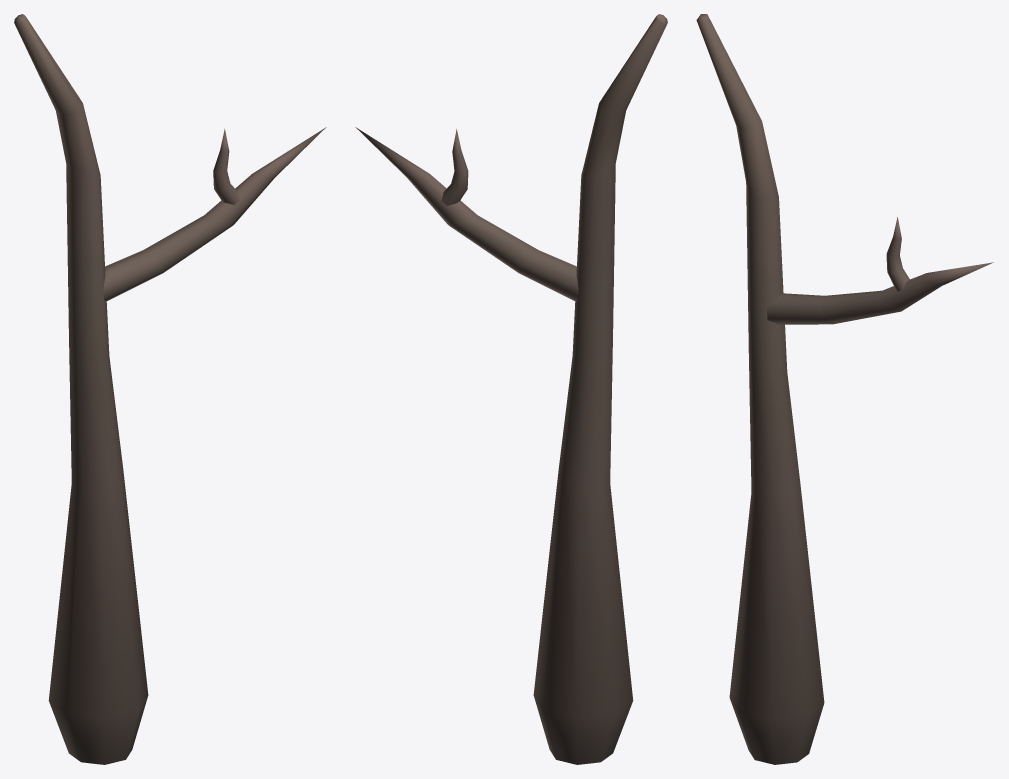
File: d_kaykit_arbre_mort.glb
3 renders of one model, left to right at view 1: azimuth 30°, elevation 25°; view 2: azimuth 150°, elevation 25°; view 3: azimuth 330°, elevation 25°, orthographic. The views are drawn at different scales.
Parts seen in each view (by area): view 1: d_kaykit_arbre_mort; view 2: d_kaykit_arbre_mort; view 3: d_kaykit_arbre_mort.
Part boxes in pixels (<box>): d_kaykit_arbre_mort: <box>14,14,326,764</box>; d_kaykit_arbre_mort: <box>355,14,667,764</box>; d_kaykit_arbre_mort: <box>696,14,993,764</box>.
Size of the model in its own units: 1.81 by 4.19 by 0.4669.
1 material, 1 textured.
